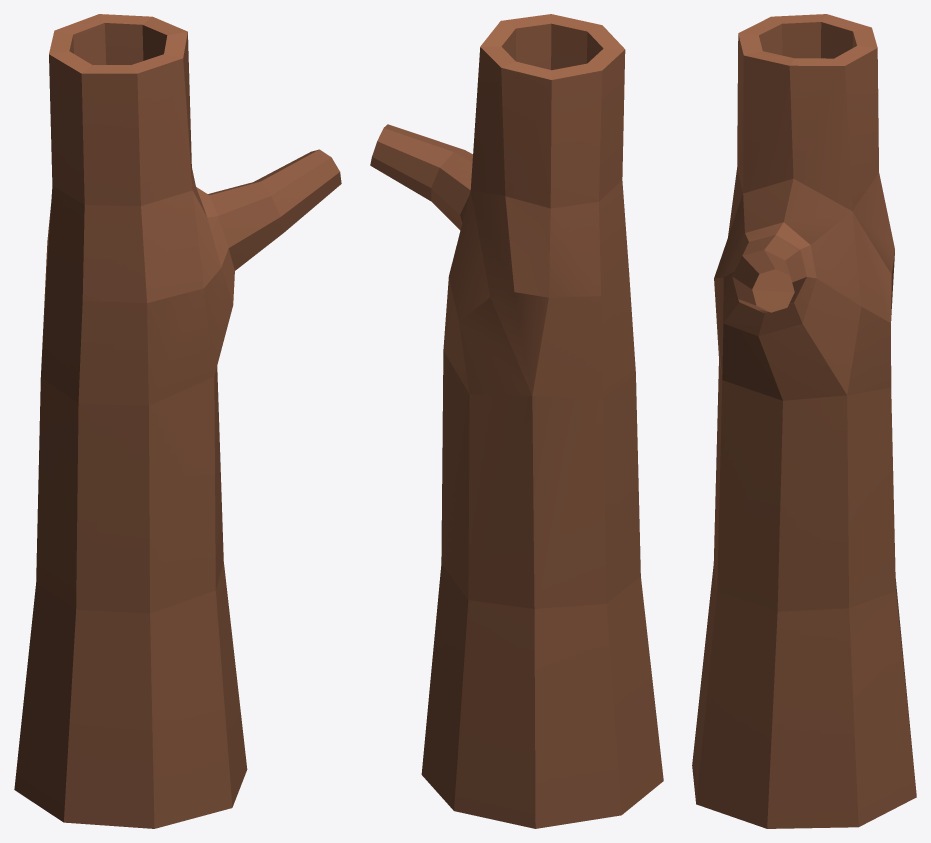
Rendered from tree trunk.fbx.
The picture shows the model from 3 angles, left to right: view 1: azimuth 30°, elevation 25°; view 2: azimuth 150°, elevation 25°; view 3: azimuth 270°, elevation 25°; orthographic projection.
Parts seen in each view (by area): view 1: tree trunk; view 2: tree trunk; view 3: tree trunk.
Boxes of the visible parts, x1,y1,x2,y2 form: tree trunk: (14, 14, 341, 828); tree trunk: (370, 14, 663, 828); tree trunk: (692, 14, 916, 828).
Size of the model in its own units: 92.84 by 231 by 63.68.
